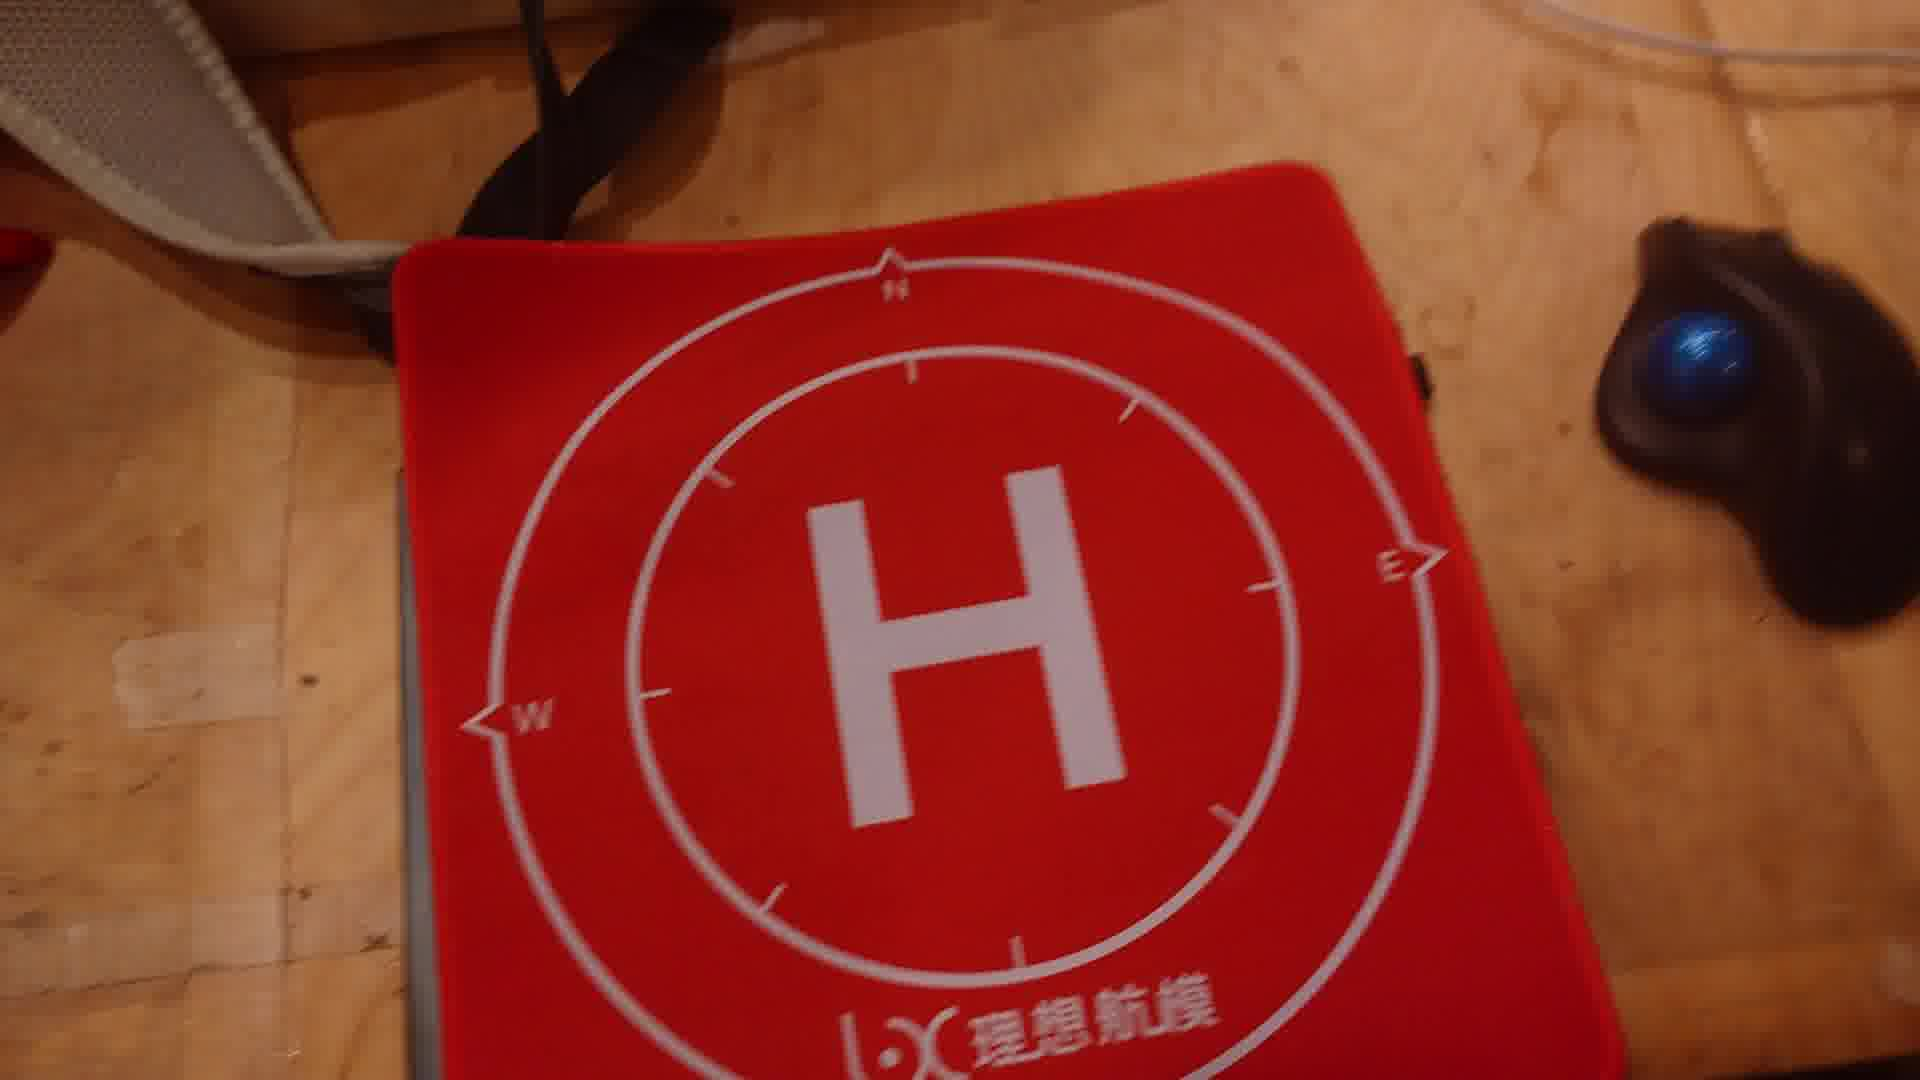H: (802, 463, 1133, 833)
